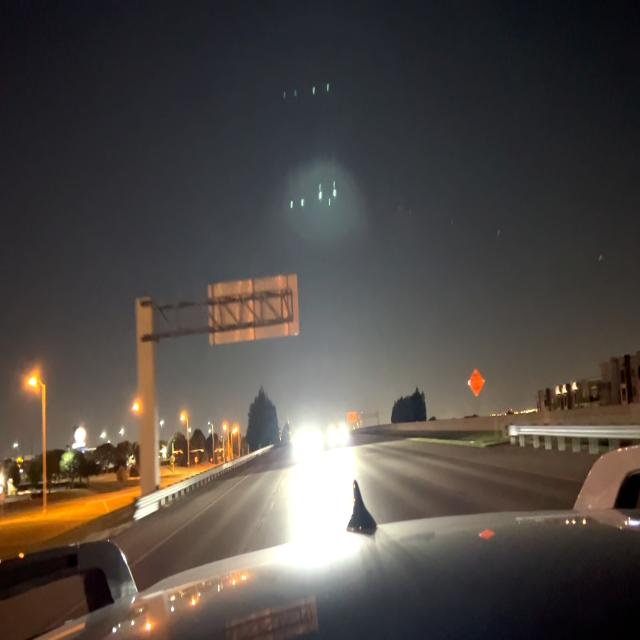back-of-sign: (205, 272, 303, 351)
